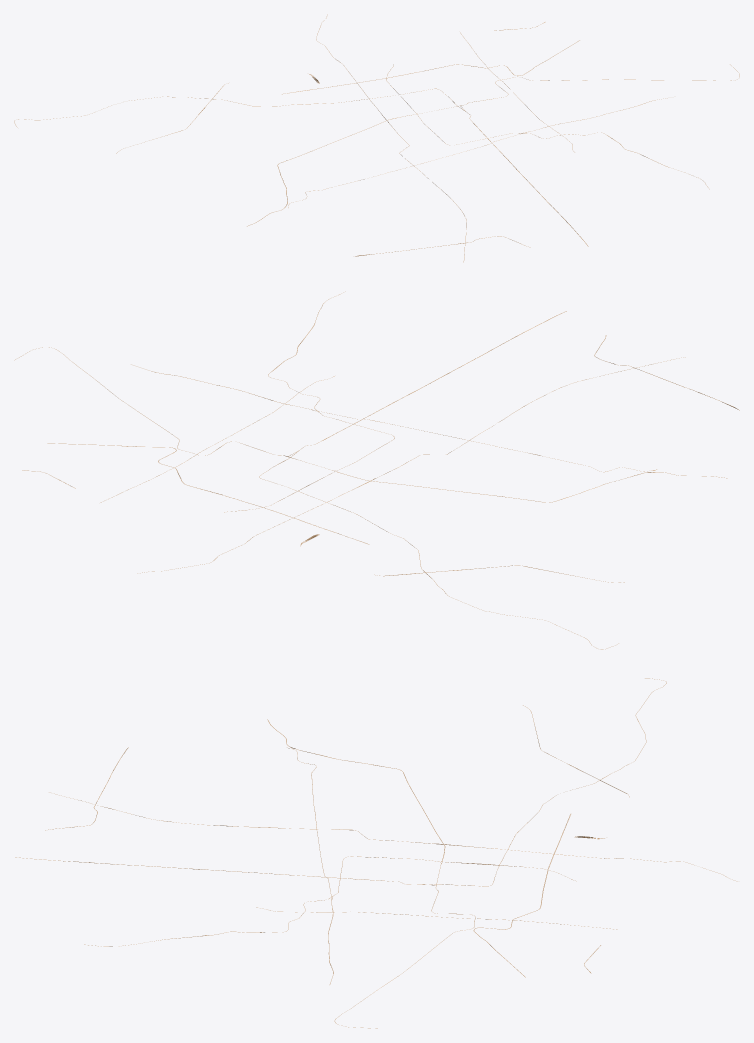
File: rail.glb
3 views of the same model, one above another, from view 1: azimuth 30°, elevation 25°; view 2: azimuth 150°, elevation 25°; view 3: azimuth 270°, elevation 25° (orthographic). The views are drawn at different scales.
Parts seen in each view (by area): view 1: rail; view 2: rail; view 3: rail.
Part boxes in pixels (x1=…): rail: x1=14, y1=14, x2=739, y2=262; rail: x1=14, y1=291, x2=739, y2=649; rail: x1=15, y1=678, x2=737, y2=1028.
Bounding box in the file's own units: 14842 × 38.05 × 13016.
